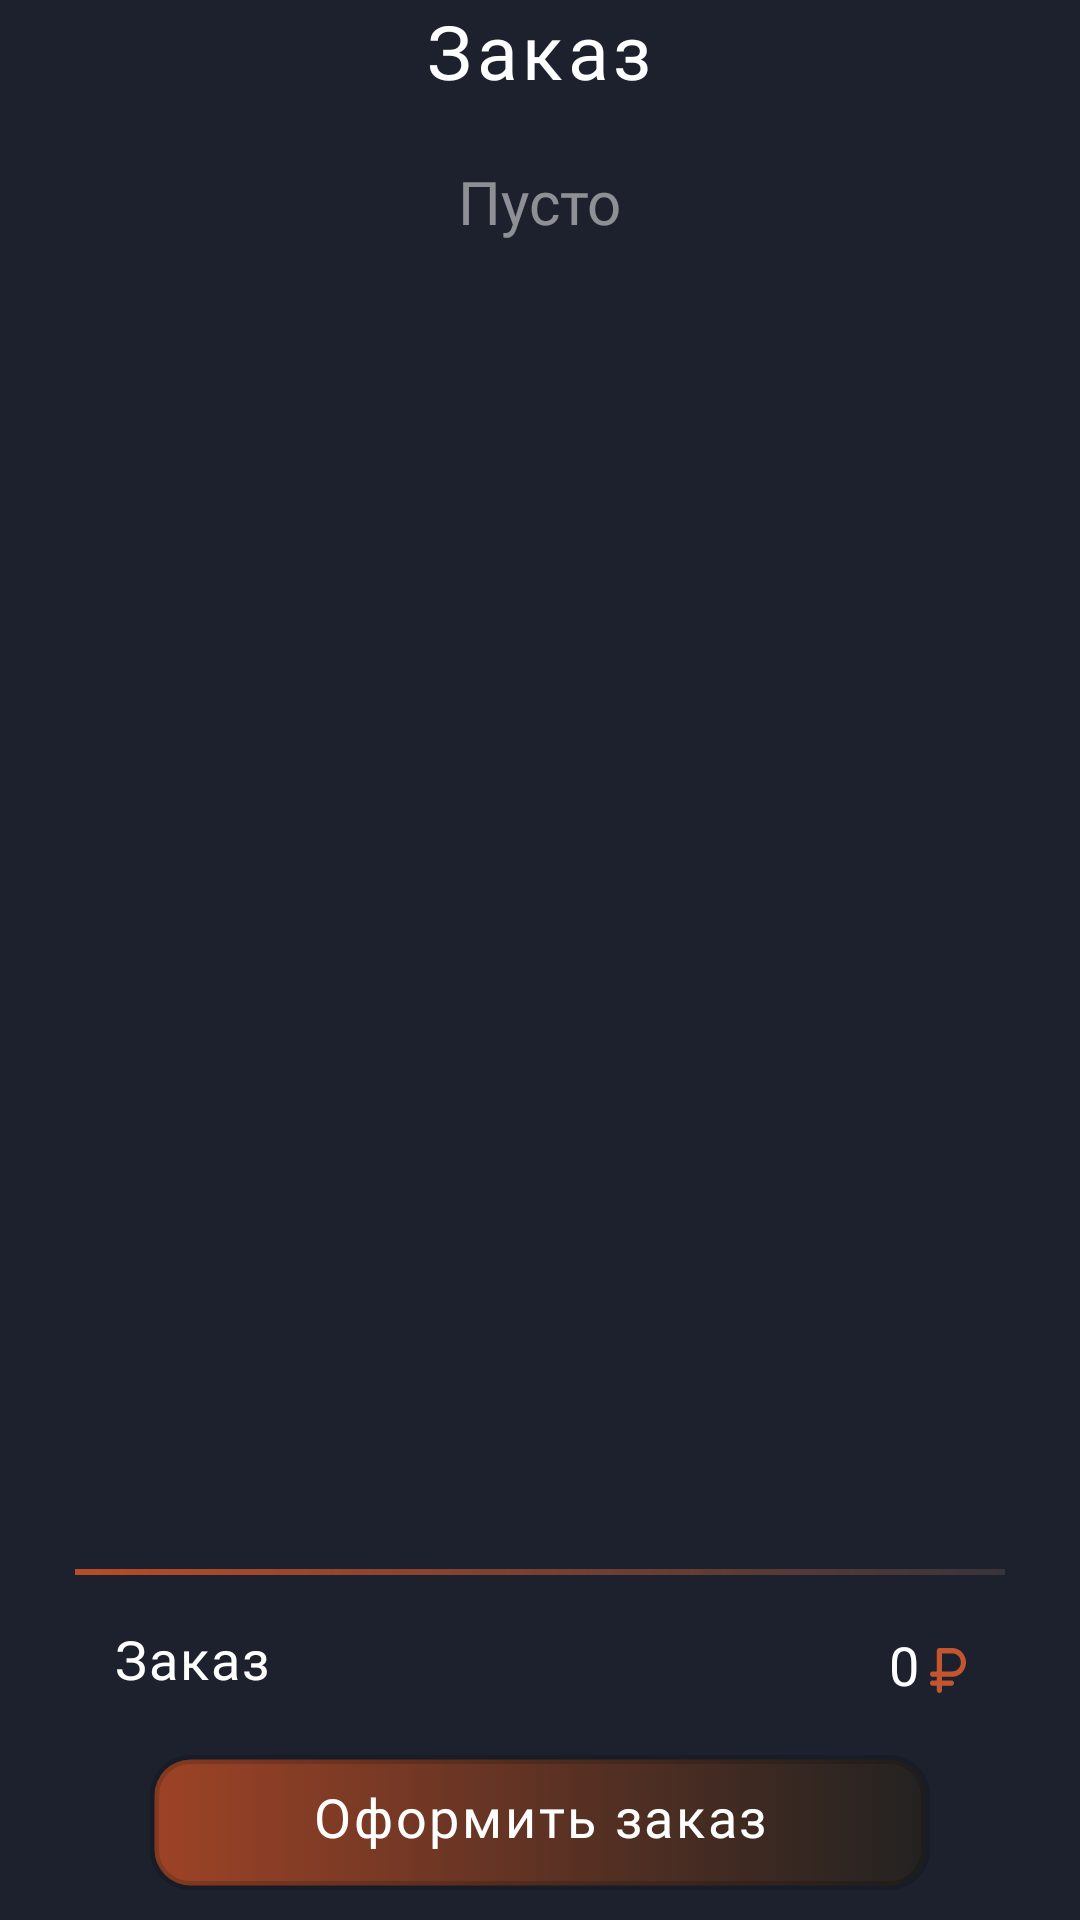

Icon click points for this 1080px x 1920px phone screenshot, format [x,y]:
rub: [948,1670]
